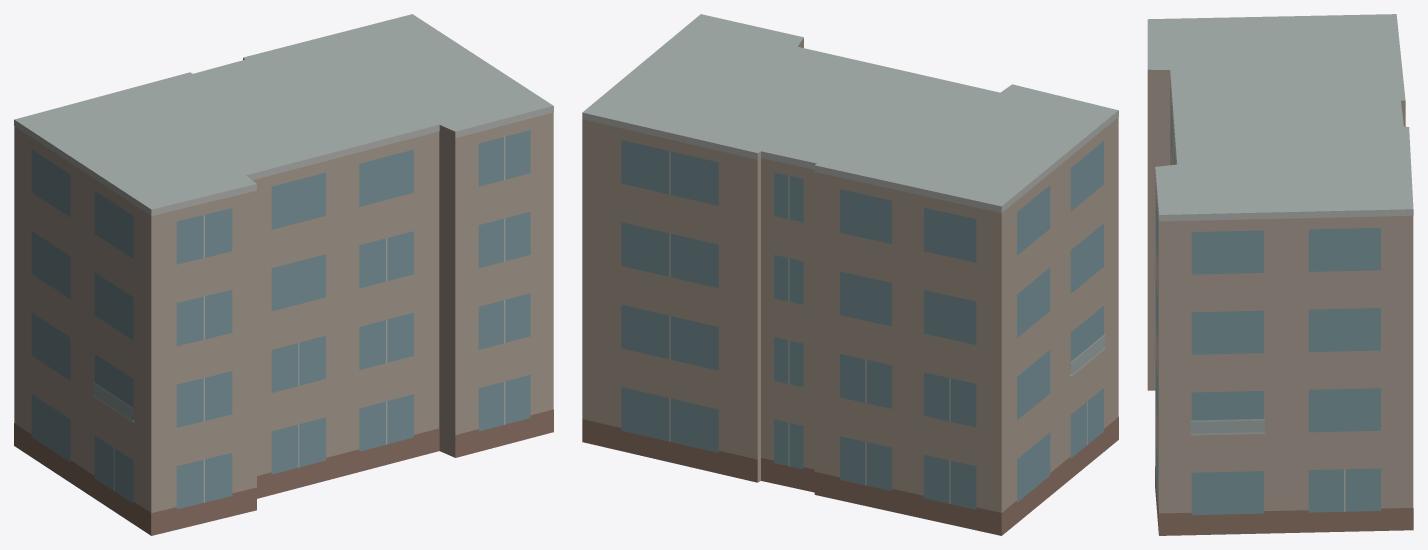
File: survey-upis-32536152.glb
The picture shows the model from 3 angles, left to right: view 1: azimuth 30°, elevation 25°; view 2: azimuth 150°, elevation 25°; view 3: azimuth 270°, elevation 25°; orthographic projection. The views are drawn at different scales.
Visible parts, largest first — view 1: survey-upis-32536152.tmp; view 2: survey-upis-32536152.tmp; view 3: survey-upis-32536152.tmp.
Boxes of the visible parts, box(x1,y1,x2,y2) form: survey-upis-32536152.tmp: box(14, 14, 553, 535); survey-upis-32536152.tmp: box(582, 14, 1118, 535); survey-upis-32536152.tmp: box(1147, 14, 1413, 535).
Bounding box in the file's own units: 16.26 × 12.1 × 9.1.
